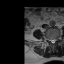CCS_stenosis: (52, 37, 54, 45)
LFS_normal: (56, 36, 58, 43)
LLS_normal: (54, 37, 56, 43)
RFS_normal: (48, 36, 50, 43)
RLS_normal: (50, 37, 52, 43)
